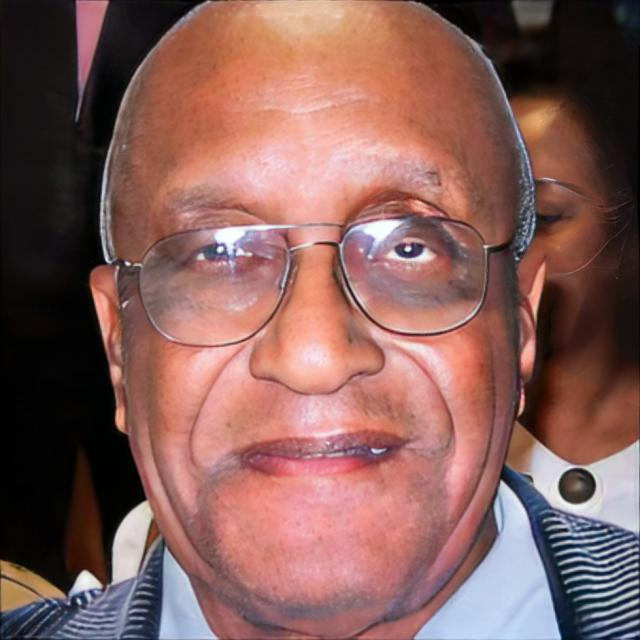disgust: (109, 0, 521, 639)
